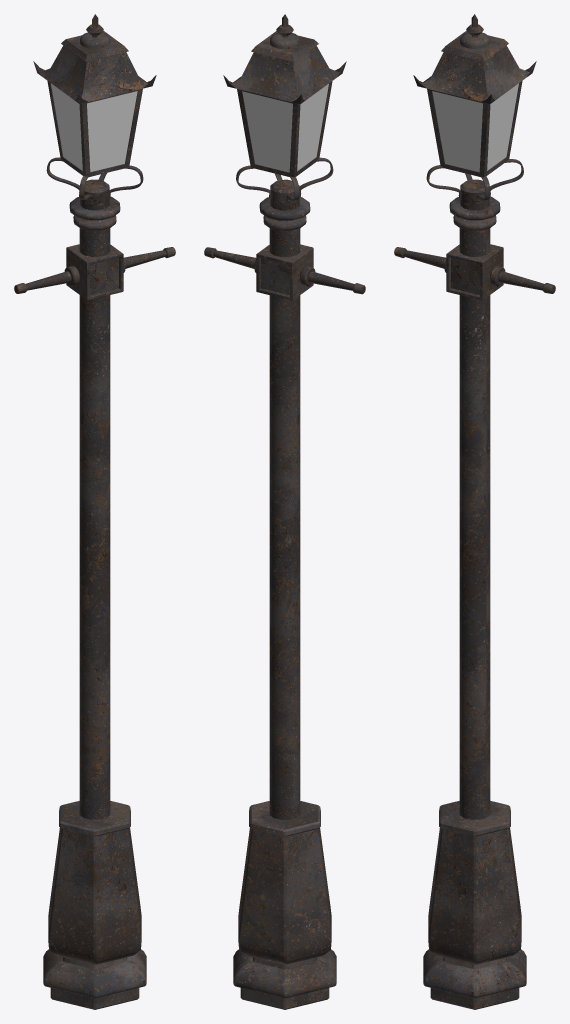
File: SM_KB3D_ENC_BldgSmBank_A_LightPole.fbx
3 views of the same model, side by side, from view 1: azimuth 30°, elevation 25°; view 2: azimuth 150°, elevation 25°; view 3: azimuth 330°, elevation 25° (orthographic).
Parts seen in each view (by area): view 1: KB3D_ENC_BldgSmBank_A_LightPoleA; view 2: KB3D_ENC_BldgSmBank_A_LightPoleA; view 3: KB3D_ENC_BldgSmBank_A_LightPoleA.
Boxes of the visible parts, x1,y1,x2,y2 form: KB3D_ENC_BldgSmBank_A_LightPoleA: (14, 14, 175, 1009); KB3D_ENC_BldgSmBank_A_LightPoleA: (204, 14, 365, 1009); KB3D_ENC_BldgSmBank_A_LightPoleA: (394, 14, 555, 1009).
Size of the model in its own units: 60.31 by 356 by 34.17.
